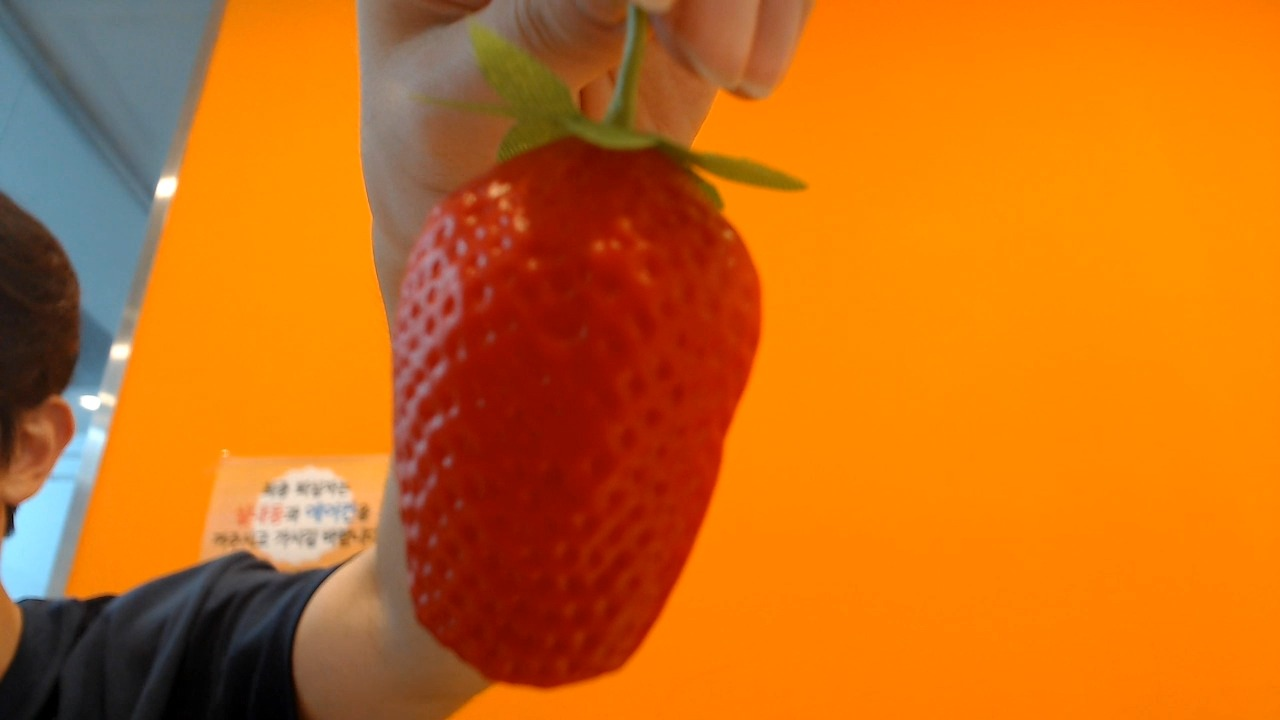strawberry: (392, 95, 760, 688)
